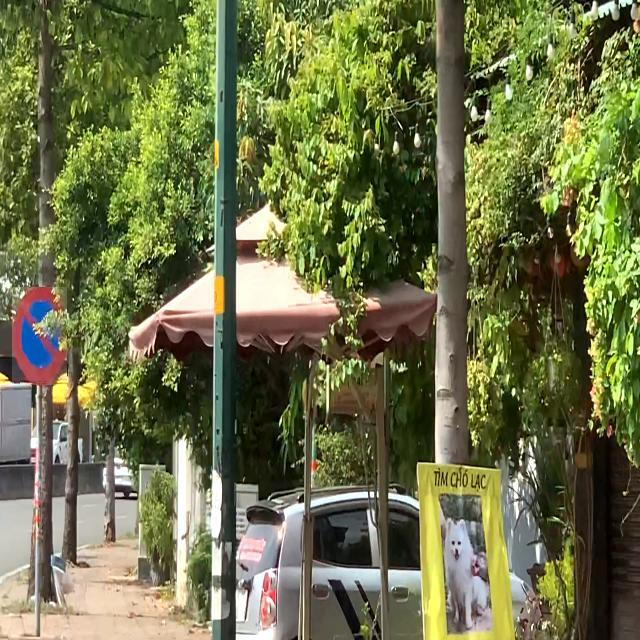P-131a: (12, 287, 67, 385)
